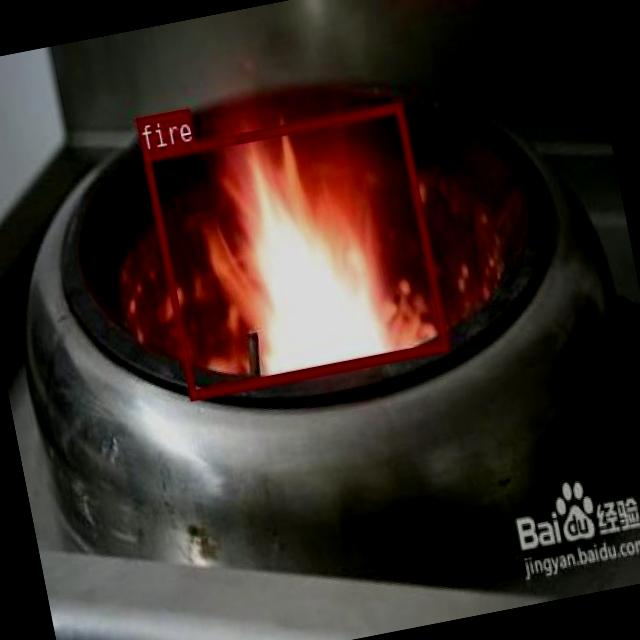fire: (142, 102, 448, 400)
